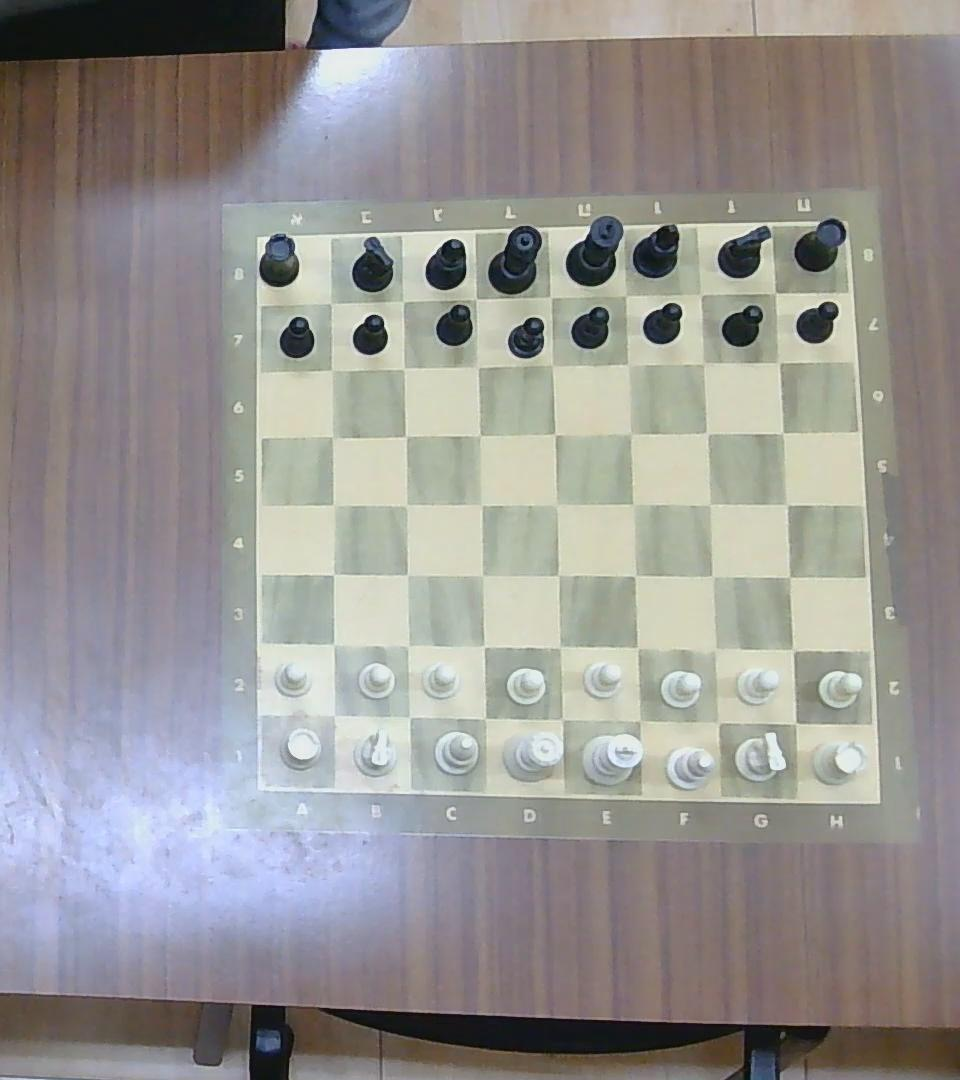xcorner: (777, 705, 811, 739), (619, 631, 653, 664), (622, 702, 656, 735), (545, 701, 578, 735), (701, 705, 734, 738), (468, 701, 501, 733), (696, 559, 729, 591), (543, 630, 575, 662), (318, 699, 349, 731), (392, 630, 423, 661), (698, 634, 730, 664), (393, 701, 423, 732), (468, 631, 499, 661), (776, 634, 807, 664), (774, 561, 804, 592), (620, 560, 650, 590), (543, 560, 573, 590), (317, 629, 347, 659), (618, 488, 648, 517), (459, 284, 489, 313), (393, 559, 422, 588), (319, 559, 348, 588), (316, 287, 345, 316), (542, 488, 571, 517), (466, 561, 496, 589), (615, 419, 645, 447), (535, 284, 565, 312), (319, 490, 348, 518), (611, 280, 639, 309), (464, 351, 492, 380), (467, 490, 495, 518), (614, 350, 642, 378), (537, 350, 566, 377), (317, 354, 345, 381), (317, 420, 345, 447), (695, 489, 723, 516), (540, 420, 568, 447), (693, 418, 721, 445), (769, 418, 797, 445), (772, 491, 801, 517), (393, 489, 420, 516), (392, 422, 418, 448), (688, 280, 714, 306), (690, 350, 716, 375), (390, 287, 415, 313), (762, 279, 788, 304), (390, 355, 415, 380), (466, 421, 491, 446), (766, 350, 791, 374)
